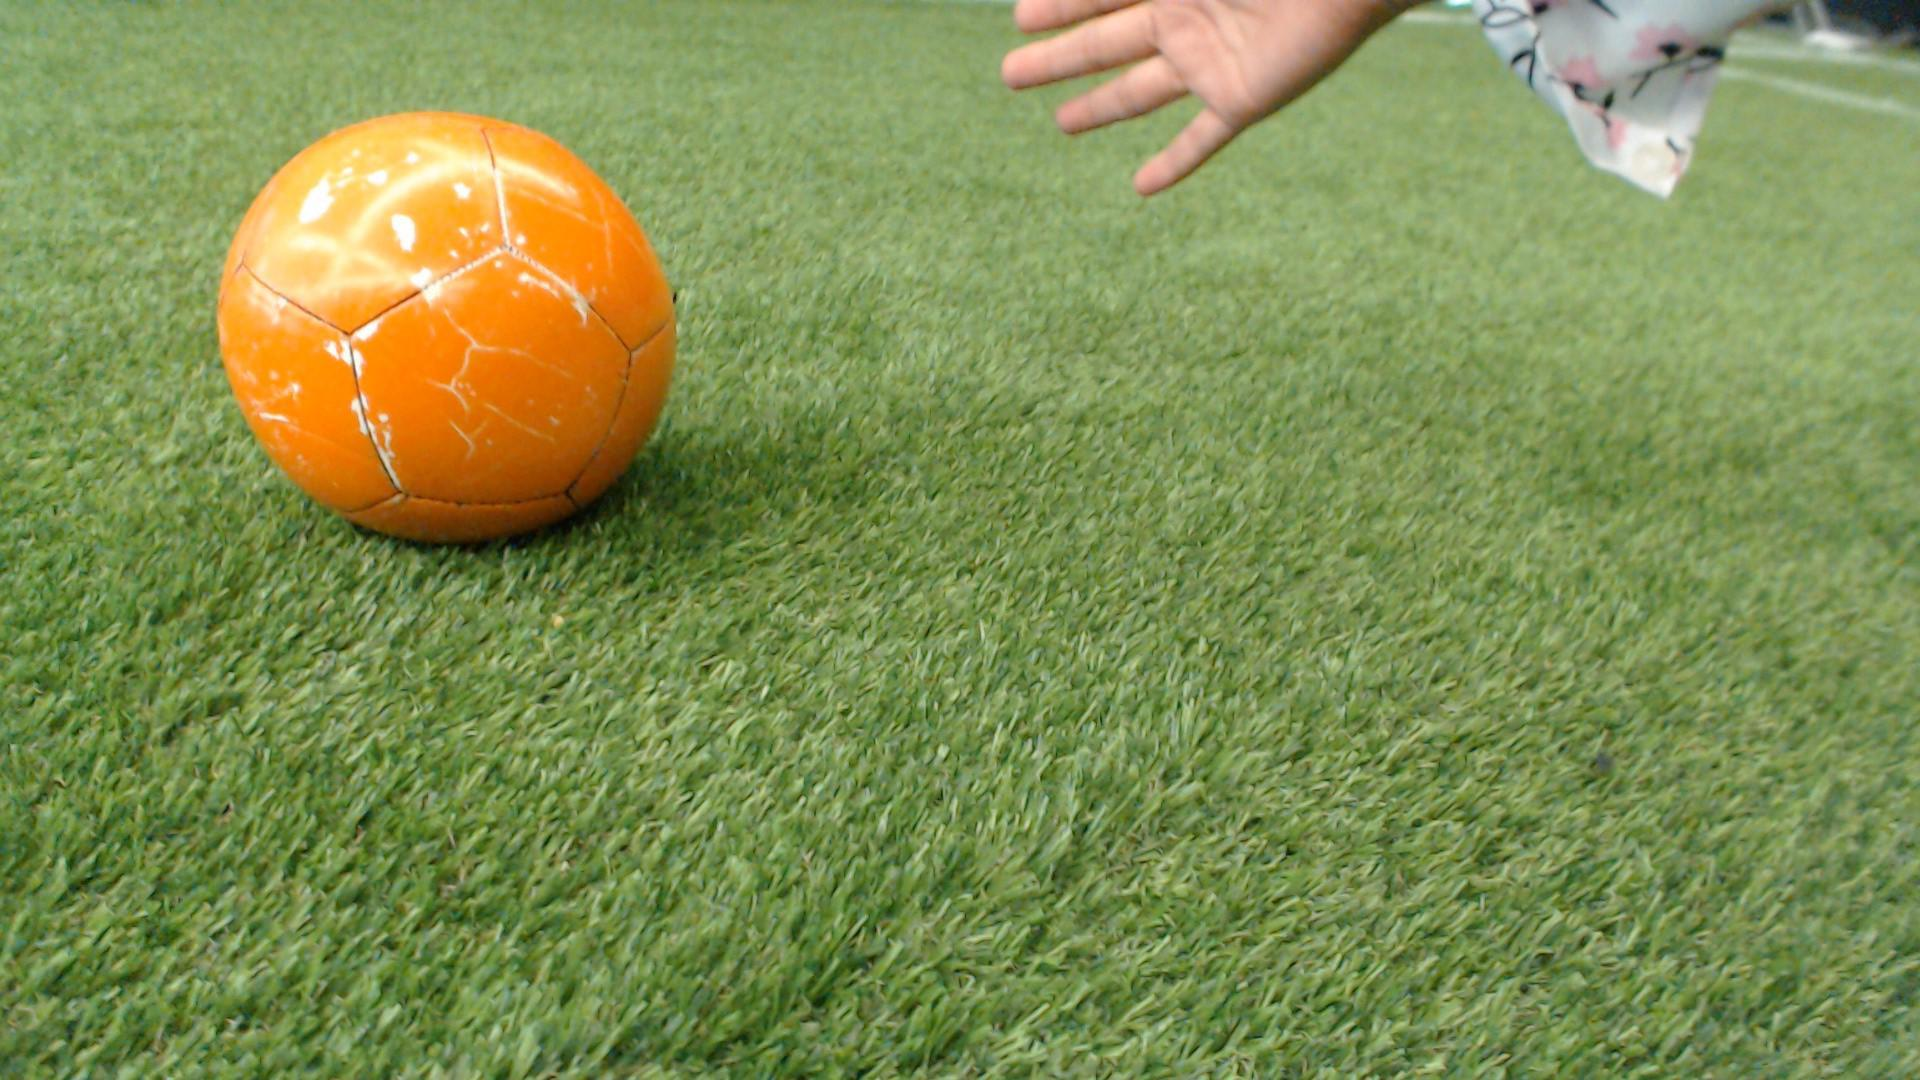bola: (178, 83, 719, 559)
